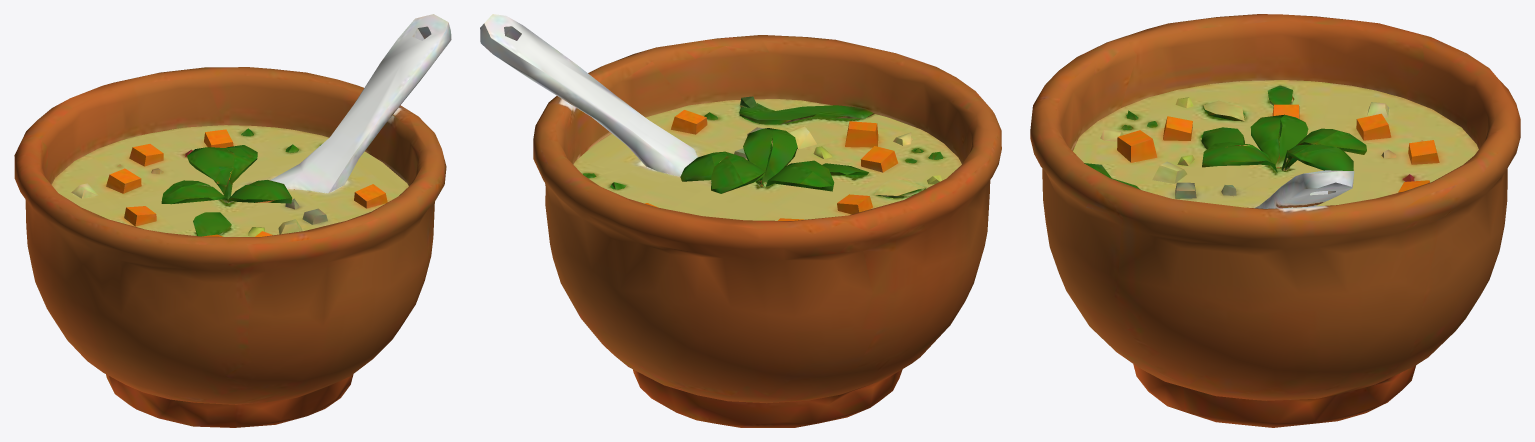
Rendered from sopa.glb.
The picture shows the model from 3 angles, left to right: view 1: azimuth 30°, elevation 25°; view 2: azimuth 150°, elevation 25°; view 3: azimuth 270°, elevation 25°; orthographic projection. The views are drawn at different scales.
Visible parts, largest first — view 1: objeto; view 2: objeto; view 3: objeto.
Part boxes in pixels (x1=…): objeto: x1=14, y1=14, x2=451, y2=427; objeto: x1=480, y1=14, x2=1001, y2=427; objeto: x1=1030, y1=14, x2=1520, y2=427.
Size of the model in its own units: 1.1 by 0.7165 by 0.9618.
Materials: 1 (1 with a texture image).
